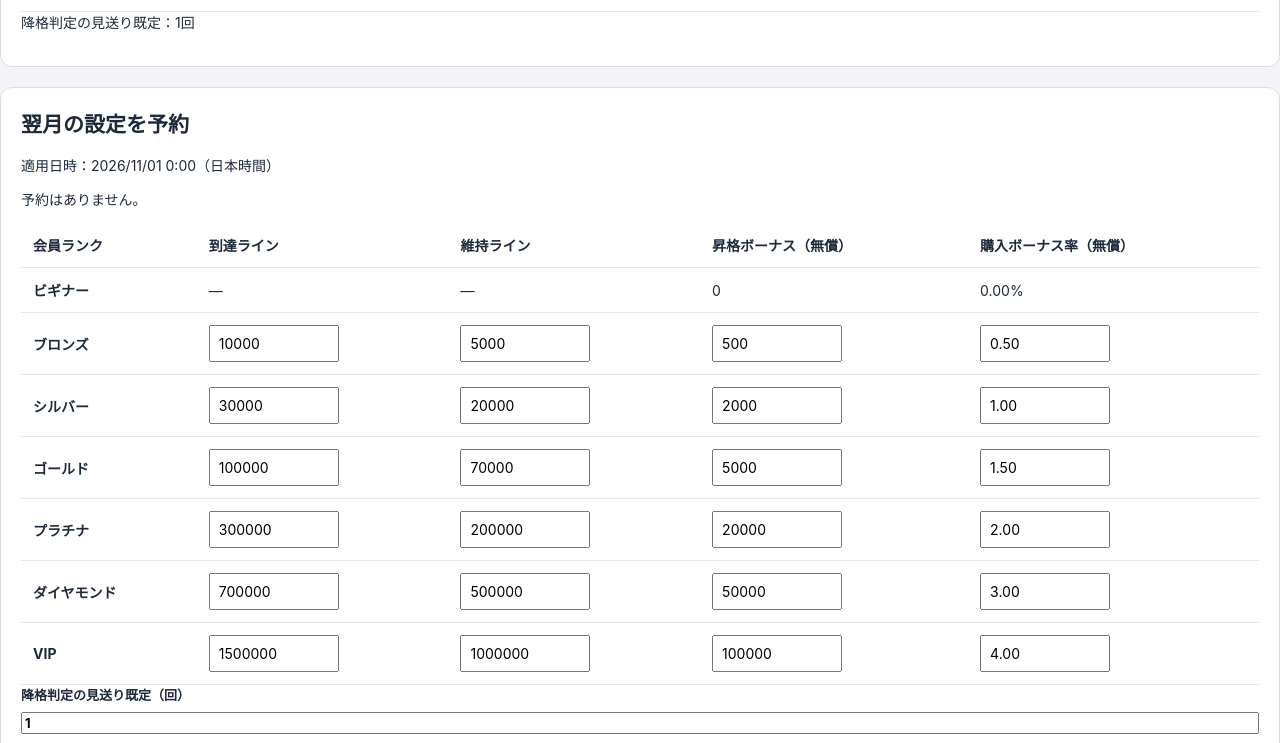
Test: Member rank settings › retains an idempotency key after uncertain failure and exposes conflict reload
(page scrolled)
Step 1. Replace the text in the number field named "ブロンズ 昇格ボーナス（無償）" with "600" → (777, 344), box [712, 325, 842, 362]
(page scrolled)
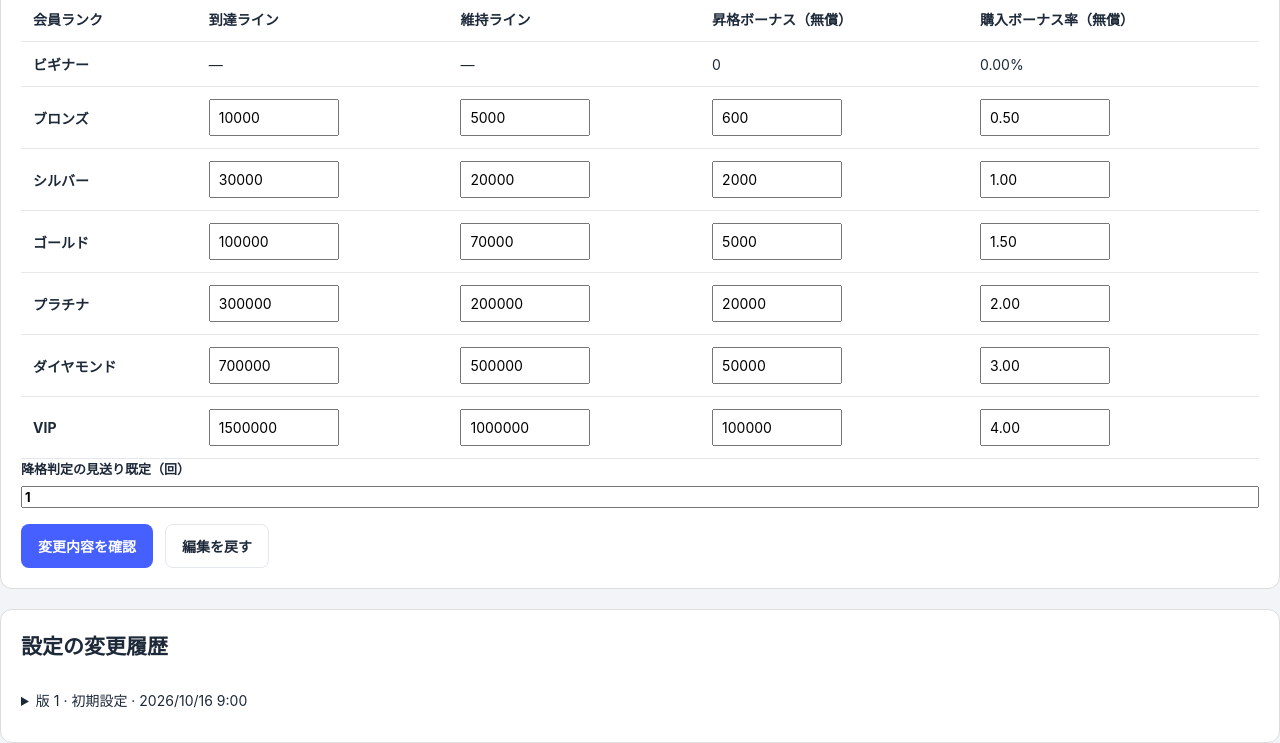
Step 2. Click the button "変更内容を確認" → (87, 546), box [21, 524, 153, 568]
(page scrolled)
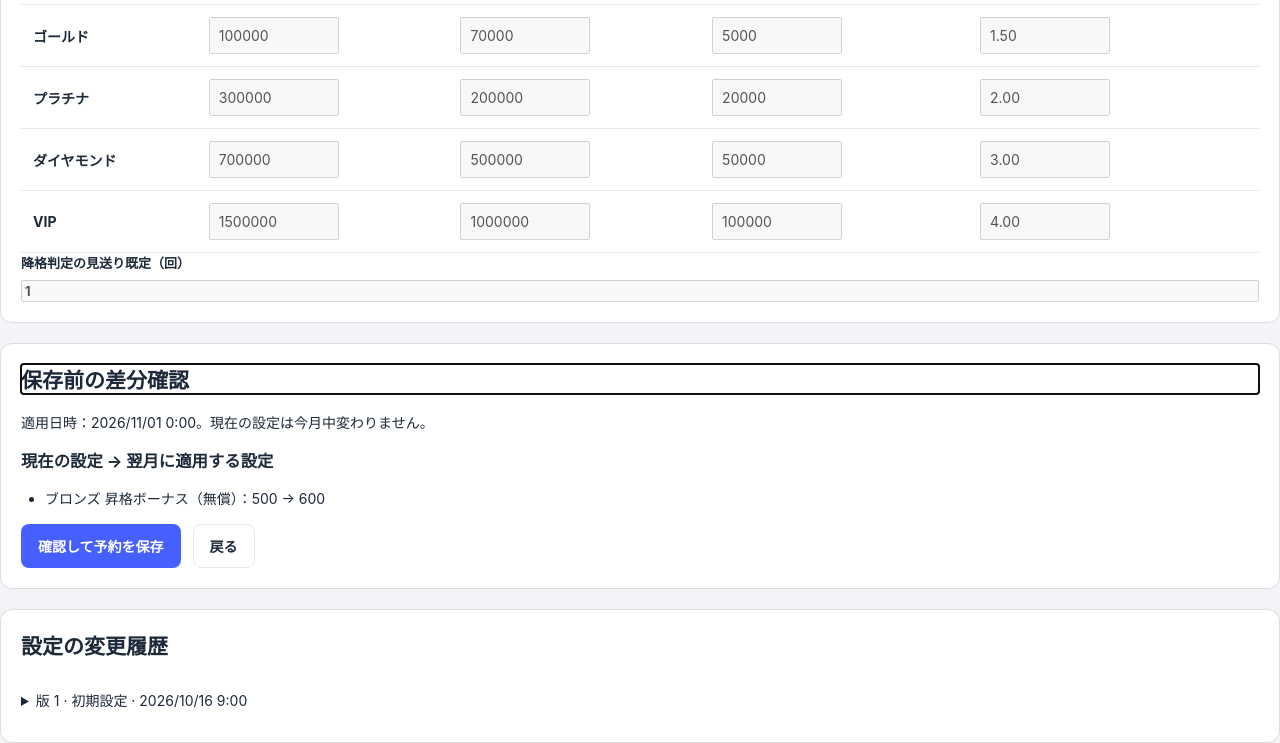
Step 3. Click the button "確認して予約を保存" → (101, 546), box [21, 524, 181, 568]
(page scrolled)
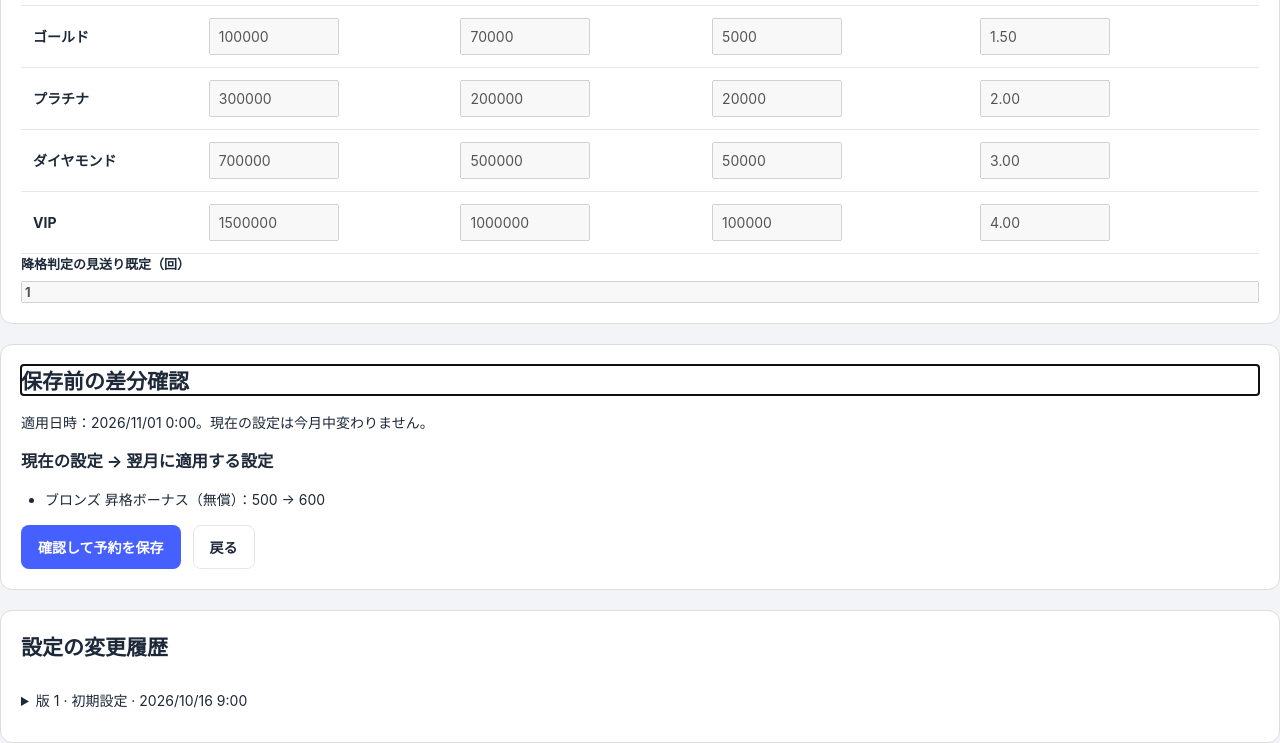
Step 4. Click the button "確認して予約を保存" → (101, 547), box [21, 525, 181, 569]
(page scrolled)
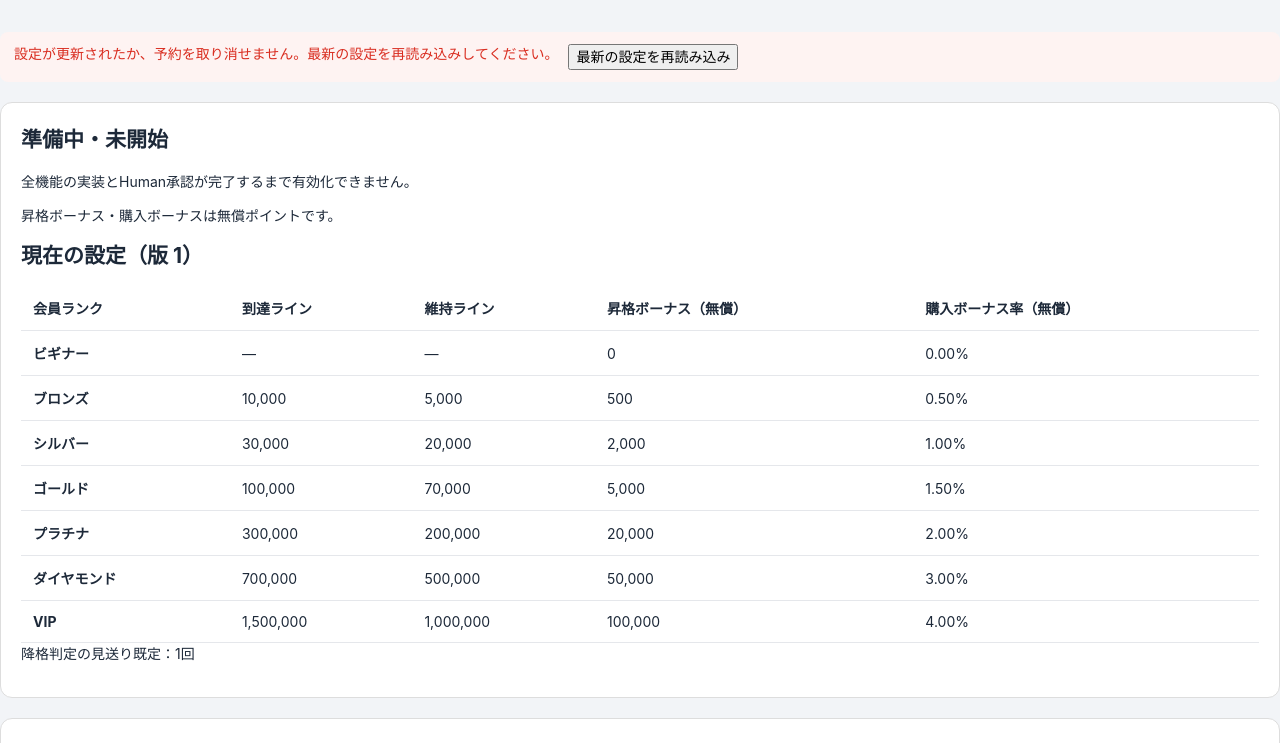
Expected: the text "設定が更新されたか、予約を取り消せません。最新の設定を再読み込みしてください。" is shown, [14, 45, 558, 62]
